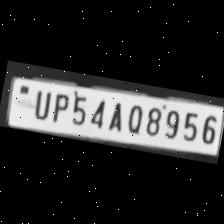4: (85, 93, 109, 130)
5: (64, 90, 90, 127), (176, 107, 200, 142)
6: (196, 110, 221, 146)
8: (140, 102, 162, 138)
9: (158, 104, 182, 140)
A: (103, 98, 125, 132)
P: (46, 88, 70, 124)
Q: (122, 100, 146, 134)
U: (28, 86, 53, 122)
